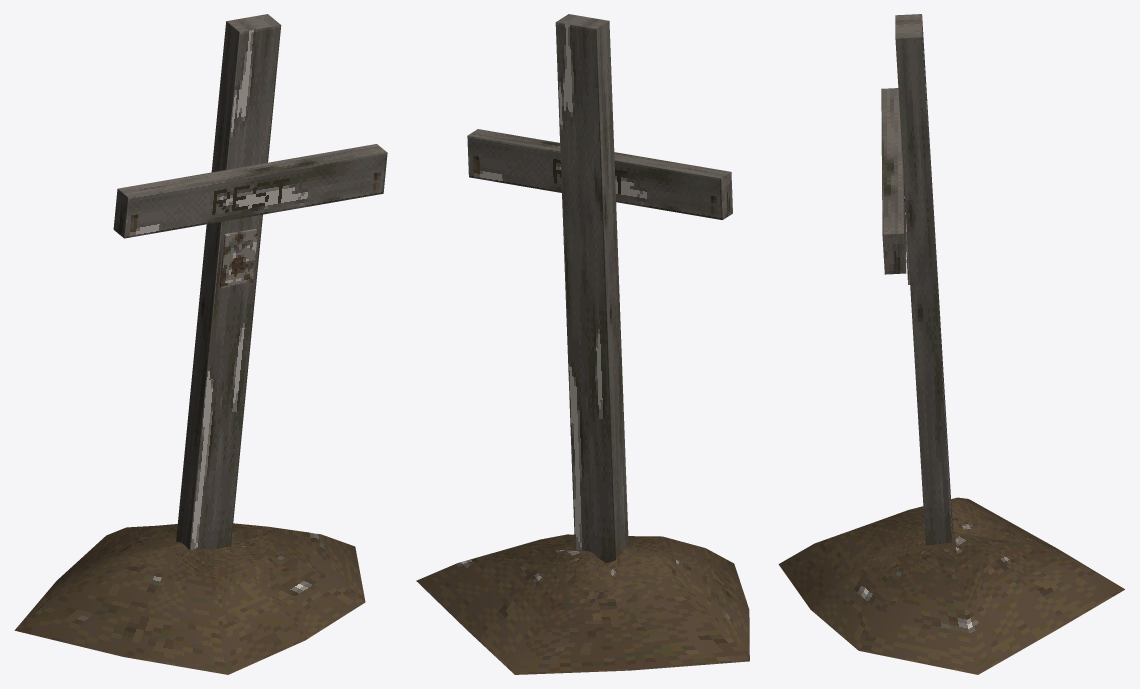
File: cross_wooden.glb
3 views of the same model, side by side, from view 1: azimuth 30°, elevation 25°; view 2: azimuth 150°, elevation 25°; view 3: azimuth 270°, elevation 25° (orthographic). The views are drawn at different scales.
Parts seen in each view (by area): view 1: cross_wooden; view 2: cross_wooden; view 3: cross_wooden.
Boxes of the visible parts, left/top/right/bottom form: cross_wooden: left=14, top=14, right=387, bottom=674; cross_wooden: left=416, top=14, right=749, bottom=674; cross_wooden: left=778, top=14, right=1124, bottom=674.
Size of the model in its own units: 0.7347 by 1.2 by 0.6459.
Materials: 1 (1 with a texture image).
